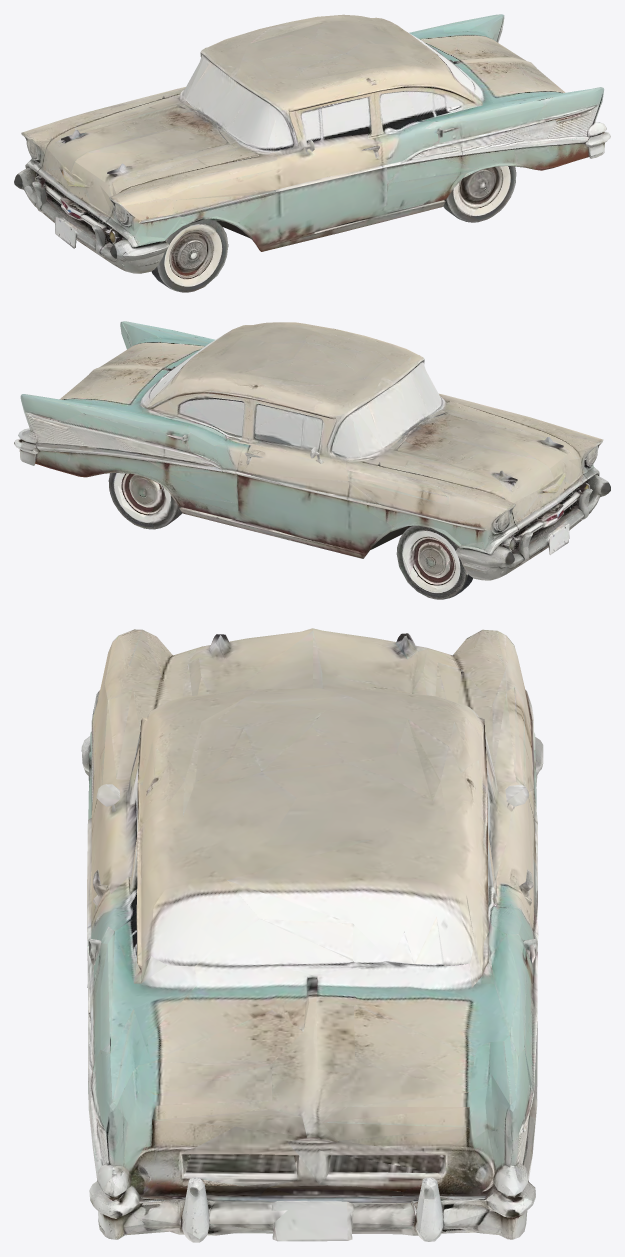
File: sedan_classic.glb
3 renders of one model, top to bottom at view 1: azimuth 30°, elevation 25°; view 2: azimuth 150°, elevation 25°; view 3: azimuth 270°, elevation 25°, orthographic. The views are drawn at different scales.
Parts seen in each view (by area): view 1: Mesh_0; view 2: Mesh_0; view 3: Mesh_0.
Part boxes in pixels (bbox=[...]): Mesh_0: bbox=[14, 14, 610, 292]; Mesh_0: bbox=[14, 321, 610, 599]; Mesh_0: bbox=[81, 628, 543, 1242].
Bounding box in the file's own units: 1.9 × 0.6011 × 0.7615.
Materials: 1 (1 with a texture image).
